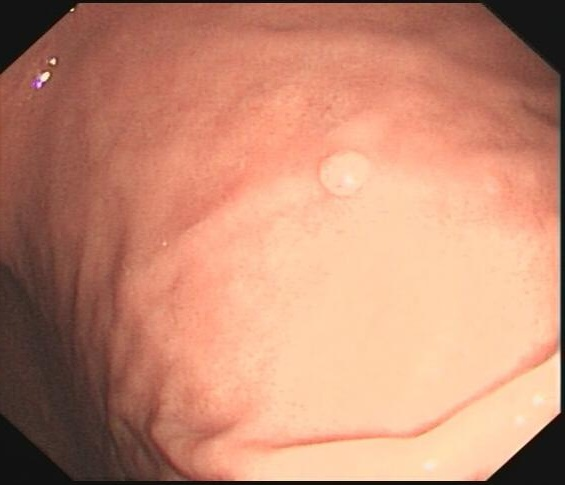Polyp: (289, 134, 393, 230)
